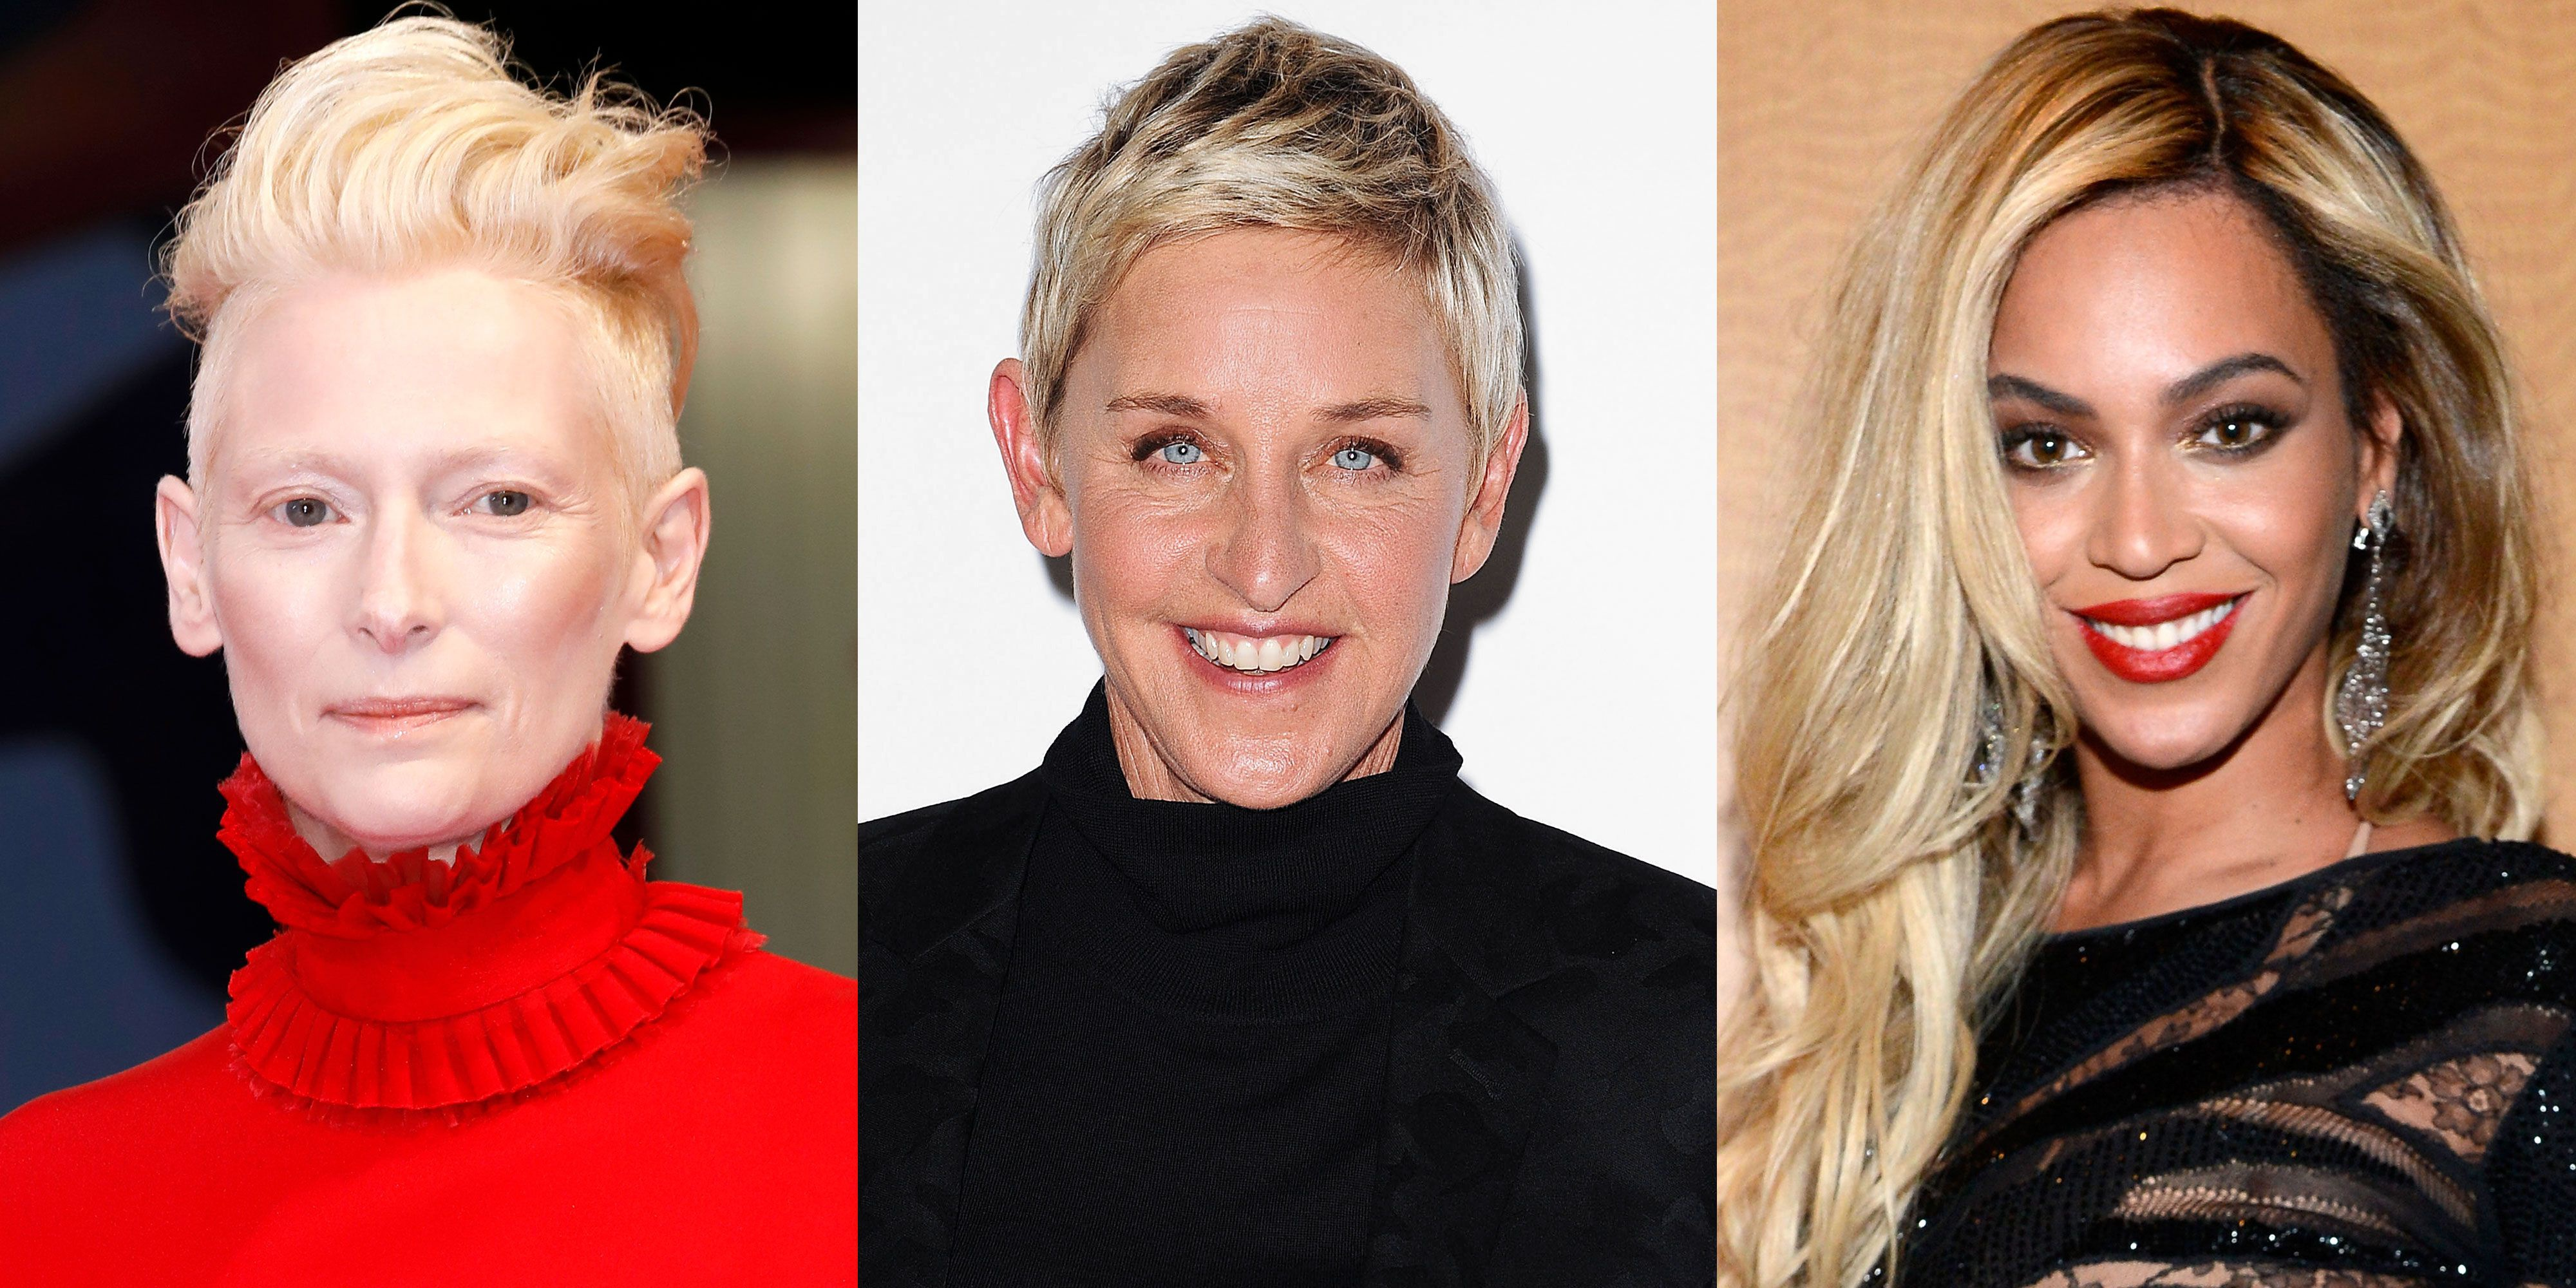bad: (1038, 371, 1467, 800), (1942, 324, 2371, 752), (181, 371, 609, 800)
